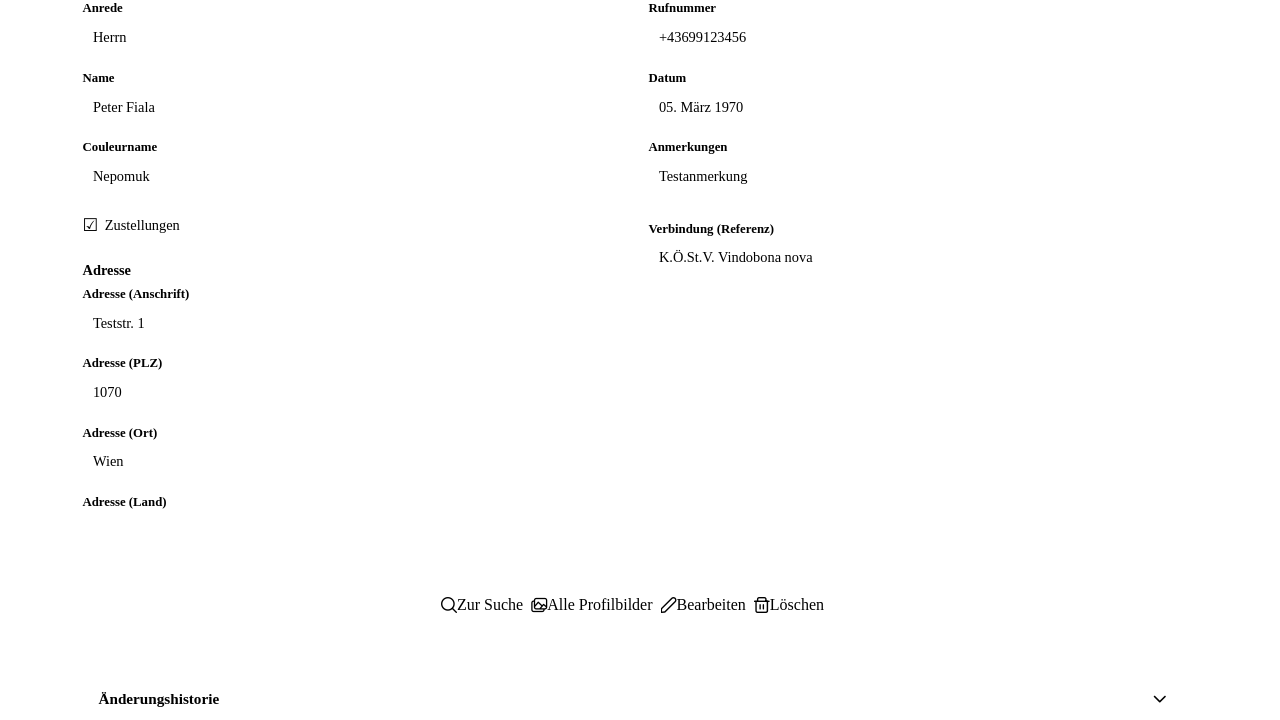
Test case: ContactShowView › offers the changelog toggle as a button that reports its state
(page scrolled)
Step 1. Click the button with class "changelog-header" → (159, 699), box x1=82 y1=678 x2=1182 y2=719
(page scrolled)
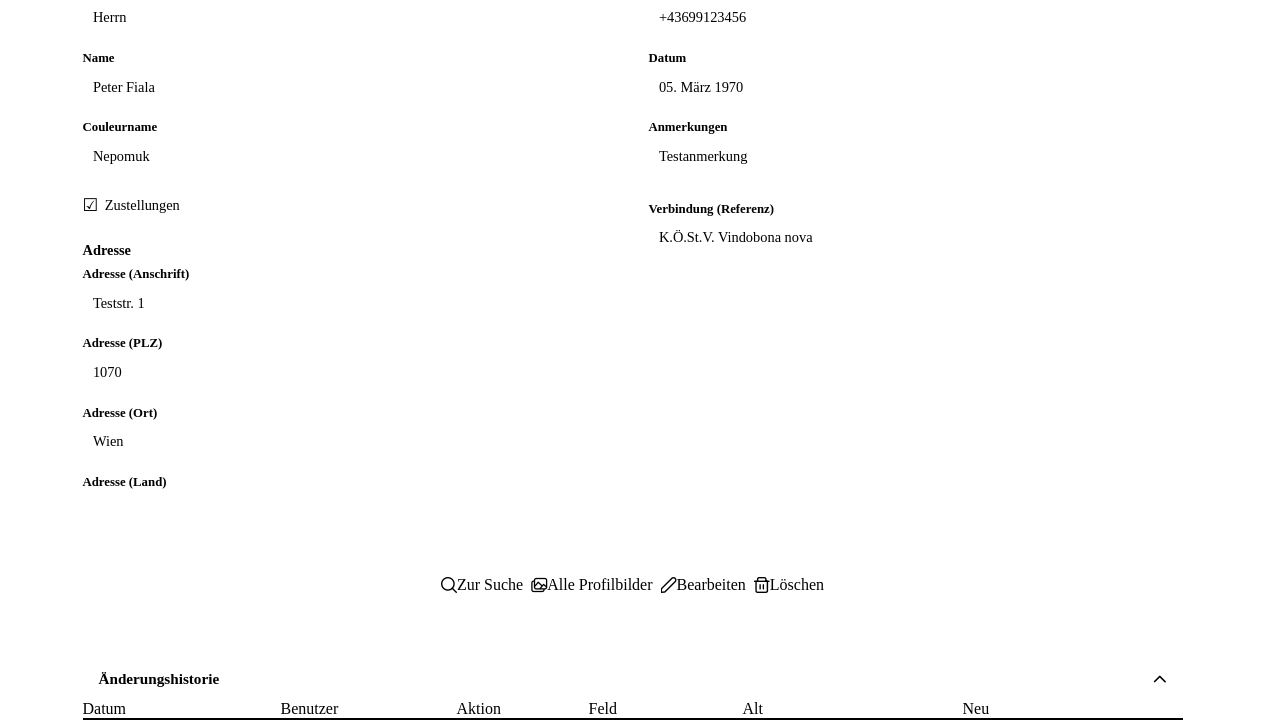
Expected: the button with class "changelog-header" is expanded, x1=82 y1=658 x2=1182 y2=700
